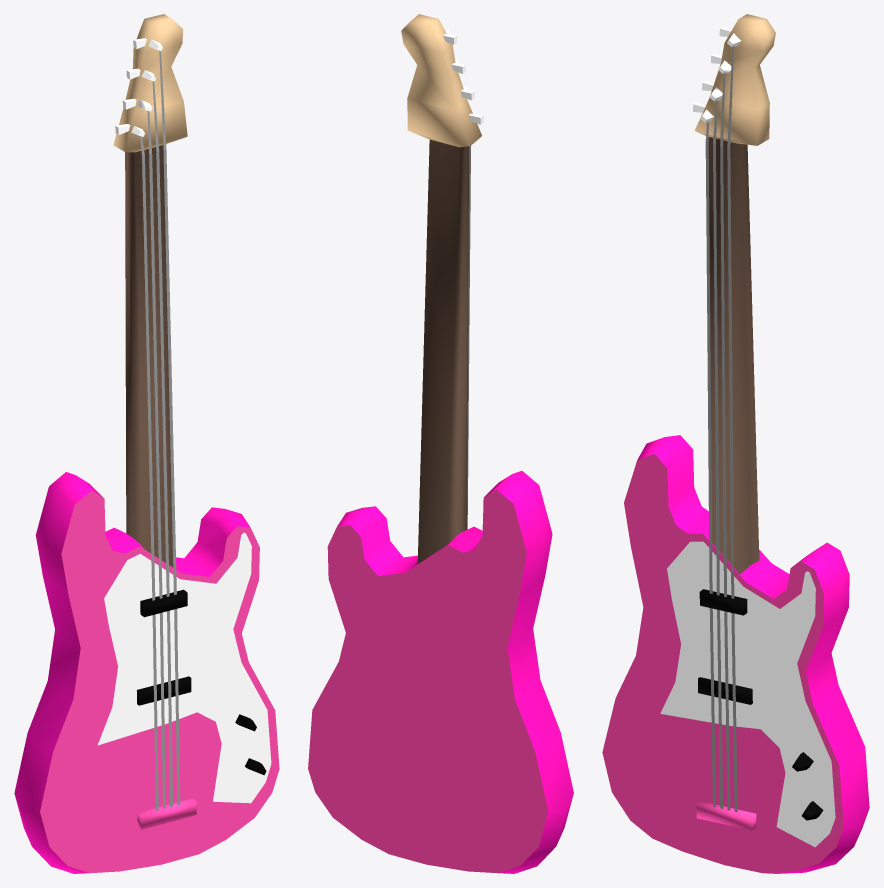
Rendered from GuitarBassPink.glb.
The picture shows the model from 3 angles, left to right: view 1: azimuth 30°, elevation 25°; view 2: azimuth 150°, elevation 25°; view 3: azimuth 330°, elevation 25°; orthographic projection.
Visible parts, largest first — view 1: GuitarBassPink; view 2: GuitarBassPink; view 3: GuitarBassPink.
Boxes of the visible parts, box(x1,y1,x2,y2) form: GuitarBassPink: box(14, 14, 279, 873); GuitarBassPink: box(308, 14, 573, 873); GuitarBassPink: box(602, 14, 869, 873).
Bounding box in the file's own units: 0.4159 × 1.34 × 0.1052.
1 material, 1 textured.
